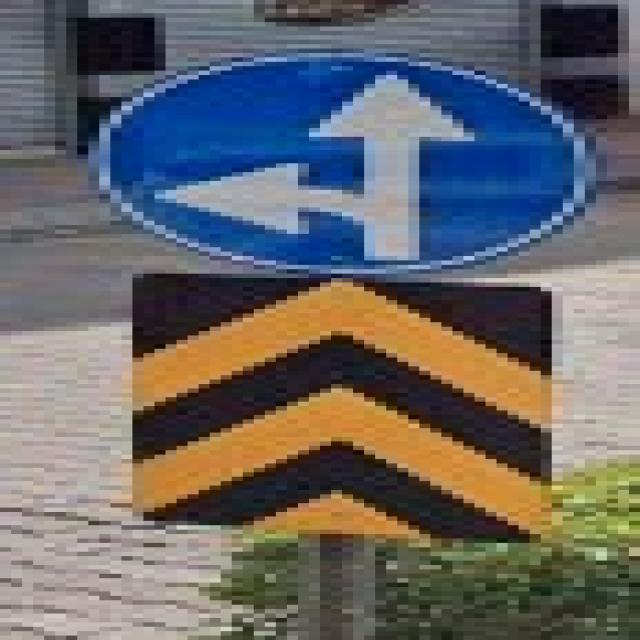Straight or Left: (95, 54, 591, 270)
